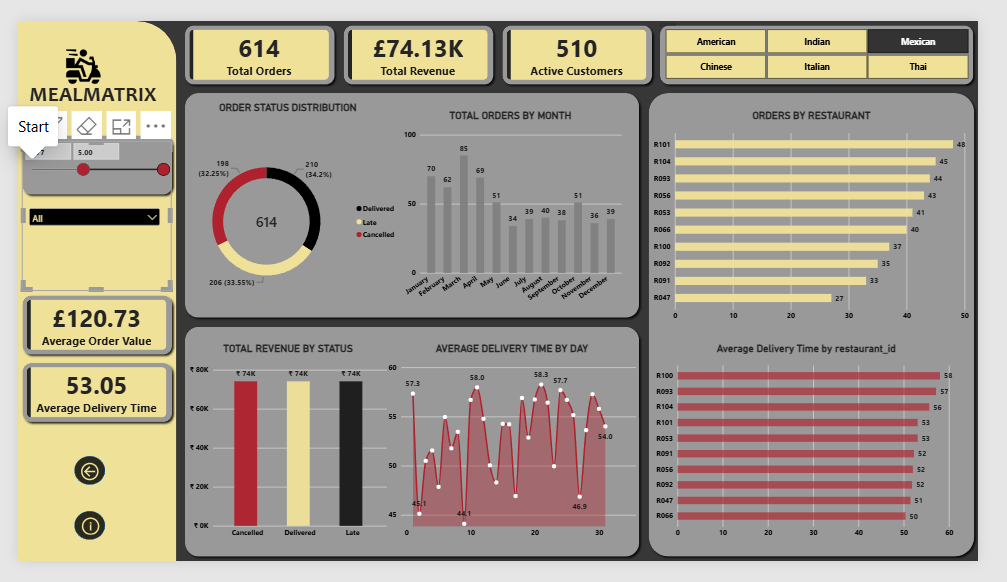

What the dashboard file says about the page in this screenshot:
{"tool":"powerbi","page":{"name":"Page 1","canvas":[1920,1080],"ordinal":0},"visuals":[{"type":"shape","box":[0,0,317,1080.6],"z":0},{"type":"shape","box":[0,220.2,317,135.8],"z":1000},{"type":"shape","box":[325.2,0,317,135.8],"z":2000},{"type":"shape","box":[959.2,0,317,135.8],"z":3000},{"type":"shape","box":[0,675.1,317,135.8],"z":4000},{"type":"shape","box":[0,539.3,317,135.8],"z":5000},{"type":"shape","box":[642.2,0,317,135.8],"z":6000},{"type":"shape","box":[1276.2,0,644.3,135.8],"z":7000},{"type":"shape","box":[325.2,135.8,926.2,467.2],"z":8000},{"type":"shape","box":[325.2,603.1,926.2,477.5],"z":9000},{"type":"shape","box":[1251.5,135.8,669,944.8],"z":10000},{"type":"image","box":[88.5,22.6,86.4,137.9],"z":11000},{"type":"textbox","box":[22.6,119.4,286.1,88.5],"z":12000},{"type":"cardVisual","fields":{"Data":["_orders_medium csv.Total Orders"]},"box":[343.7,18.5,279.9,100.9],"z":13000},{"type":"cardVisual","fields":{"Data":["_orders_medium csv.Average Order Value"]},"box":[18.5,557.8,279.9,100.9],"z":14000},{"type":"cardVisual","fields":{"Data":["_orders_medium csv.Total Revenue"]},"box":[660.7,16.5,279.9,100.9],"z":15000},{"type":"cardVisual","fields":{"Data":["_orders_medium csv.Active Customers"]},"box":[977.7,18.5,279.9,100.9],"z":16000},{"type":"cardVisual","fields":{"Data":["_orders_medium csv.Average Delivery Time"]},"box":[18.5,691.6,279.9,100.9],"z":17000},{"type":"donutChart","title":"ORDER STATUS DISTRIBUTION","fields":{"Category":["_orders_medium csv.status"],"Y":["_orders_medium csv.Total Orders"]},"box":[317,160.5,444.6,442.5],"z":18000},{"type":"clusteredColumnChart","title":"TOTAL ORDERS BY MONTH","fields":{"Category":["_orders_medium csv.order_time.Variation.Date Hierarchy.Month"],"Y":["_orders_medium csv.Total Orders"]},"box":[761.6,177,444.6,397.3],"z":19000},{"type":"barChart","title":"ORDERS BY RESTAURANT","fields":{"Category":["restaurants csv.restaurant_id"],"Y":["_orders_medium csv.Total Orders"]},"box":[1270,177,634,426.1],"z":20000},{"type":"clusteredColumnChart","title":"TOTAL REVENUE BY STATUS","fields":{"Category":["_orders_medium csv.status"],"Y":["_orders_medium csv.Total Revenue"]},"box":[343.7,642.2,395.2,395.2],"z":21000},{"type":"lineChart","title":"AVERAGE DELIVERY TIME BY DAY","fields":{"Category":["_orders_medium csv.order_time.Variation.Date Hierarchy.Day"],"Y":["_orders_medium csv.Average Delivery Time"]},"box":[738.9,642.2,496.1,395.2],"z":22000},{"type":"clusteredBarChart","fields":{"Category":["restaurants csv.restaurant_id"],"Y":["_orders_medium csv.Average Delivery Time"]},"box":[1276.2,642.2,603.1,395.2],"z":23000},{"type":"slicer","fields":{"Values":["restaurants csv.cuisine"]},"box":[1276.2,0,644.3,117.3],"z":24000},{"type":"slicer","fields":{"Values":["restaurants csv.rating"]},"box":[8.2,238.8,300,300],"z":25000},{"type":"slicer","fields":{"Values":["restaurants csv.city"]},"box":[18.5,370.5,271.7,300.5],"z":26000},{"type":"shape","box":[113.2,870.7,61.7,57.6],"z":27000},{"type":"shape","box":[113.2,979.8,61.7,57.6],"z":28000},{"type":"actionButton","box":[94.7,988,100,40],"z":29000},{"type":"actionButton","box":[76.2,870.7,137.9,61.7],"z":30000}]}

Visuals, with their boxes in screenshot pixels (x1, y1, x2, y2):
shape: 16 18 174 557
shape: 16 128 174 196
shape: 178 18 336 86
shape: 494 18 652 86
shape: 16 355 174 423
shape: 16 287 174 355
shape: 336 18 494 86
shape: 652 18 974 86
shape: 178 86 640 319
shape: 178 319 640 557
shape: 640 86 974 557
image: 60 30 103 98
textbox: 27 78 170 122
cardVisual - _orders_medium csv.Total Orders: 187 28 327 78
cardVisual - _orders_medium csv.Average Order Value: 25 297 165 347
cardVisual - _orders_medium csv.Total Revenue: 345 27 485 77
cardVisual - _orders_medium csv.Active Customers: 503 28 643 78
cardVisual - _orders_medium csv.Average Delivery Time: 25 363 165 414
"ORDER STATUS DISTRIBUTION" donutChart: 174 98 396 319
"TOTAL ORDERS BY MONTH" clusteredColumnChart: 396 107 617 305
"ORDERS BY RESTAURANT" barChart: 649 107 966 319
"TOTAL REVENUE BY STATUS" clusteredColumnChart: 187 339 384 536
"AVERAGE DELIVERY TIME BY DAY" lineChart: 384 339 632 536
clusteredBarChart - restaurants csv.restaurant_id x _orders_medium csv.Average Delivery Time: 652 339 953 536
slicer - restaurants csv.cuisine: 652 18 974 77
slicer - restaurants csv.rating: 20 137 169 287
slicer - restaurants csv.city: 25 203 161 353
shape: 72 453 103 481
shape: 72 507 103 536
actionButton: 63 511 113 531
actionButton: 54 453 123 484
